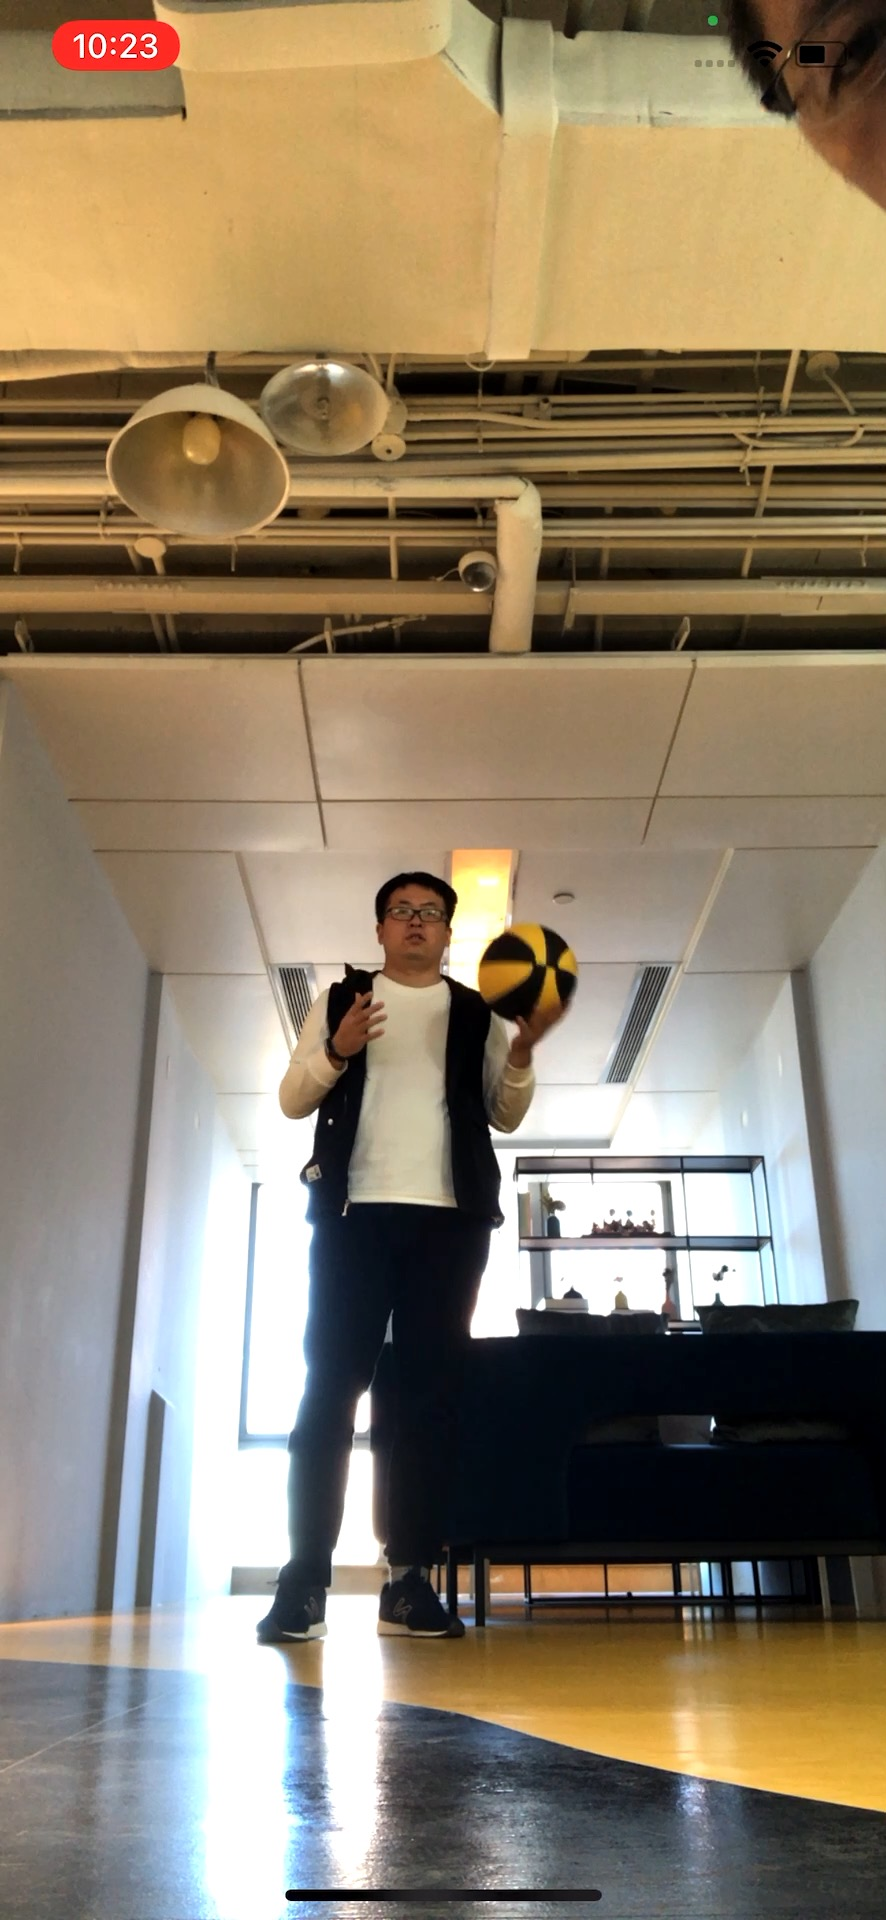ball: (480, 921, 576, 1021)
